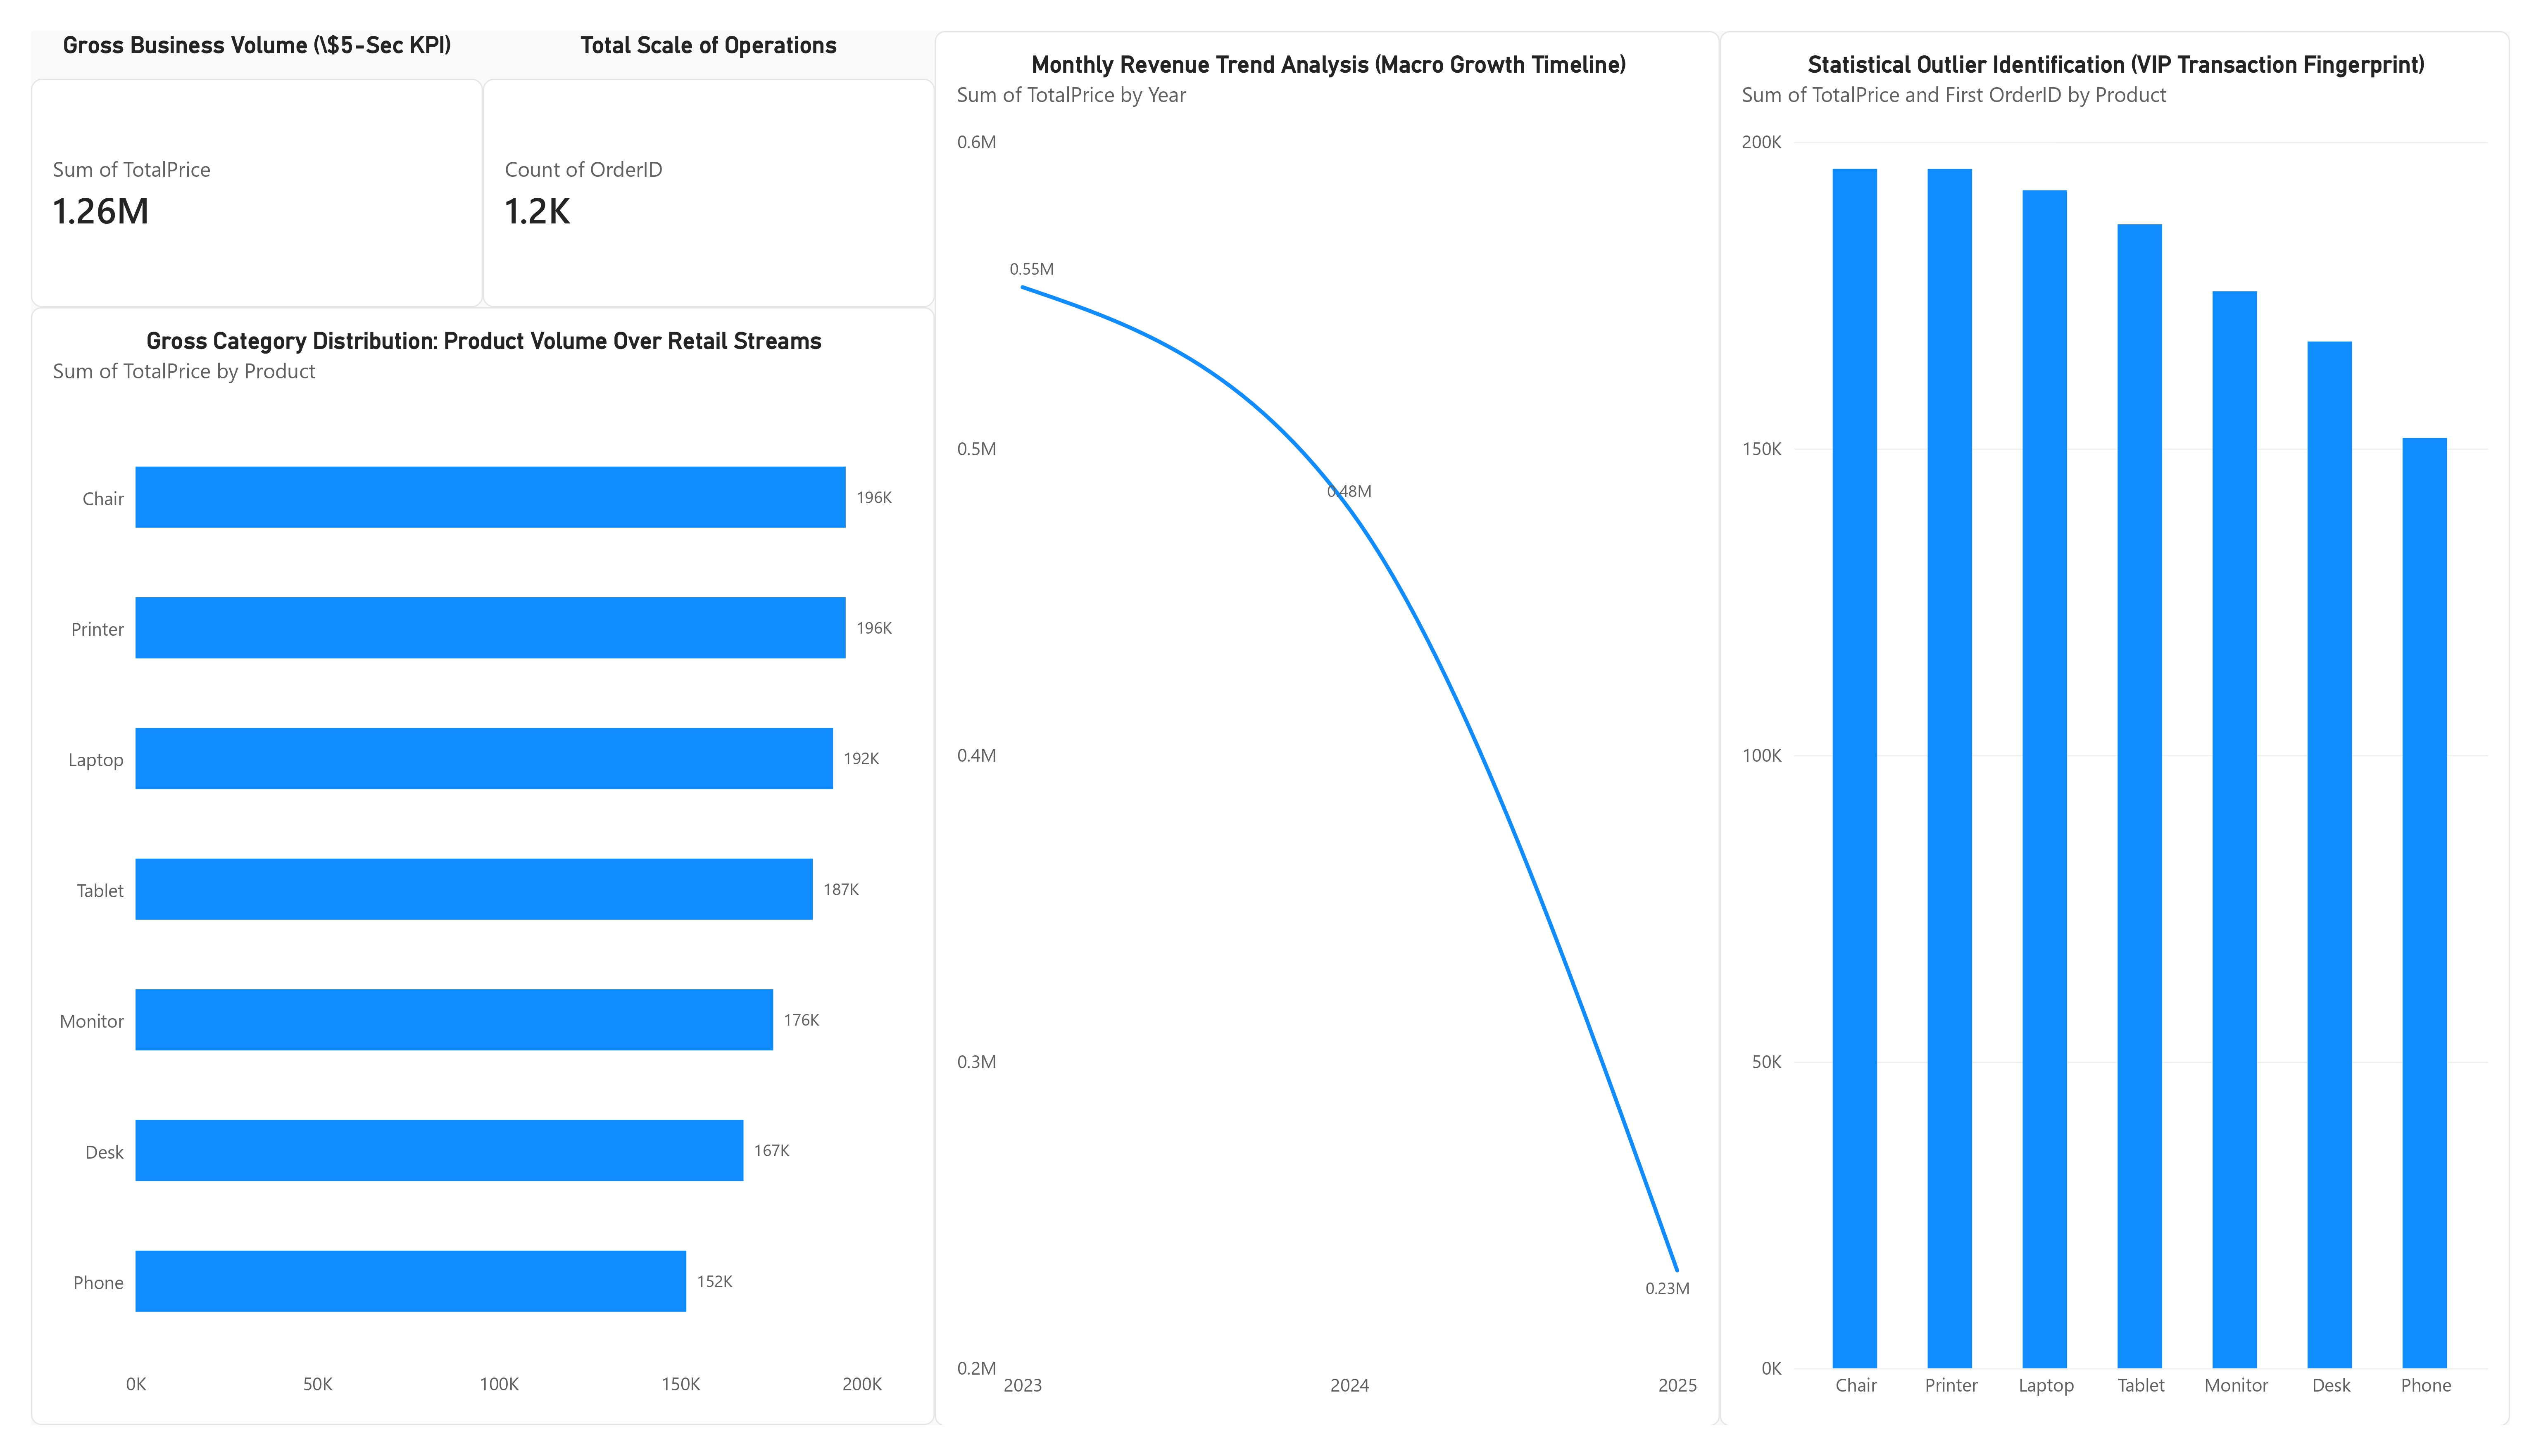

The page's visual inventory and layout, read from the dashboard file:
{"tool":"powerbi","page":{"name":"Page 1","canvas":[1920,1080],"ordinal":0},"visuals":[{"type":"clusteredBarChart","title":"Gross Category Distribution: Product Volume Over Retail Streams","fields":{"Category":["ECommerce_Data.Product"],"Y":["Sum(ECommerce_Data.TotalPrice)"]},"box":[0,213.8,699.8,866.2],"z":0},{"type":"lineChart","title":"Monthly Revenue Trend Analysis (Macro Growth Timeline)","fields":{"Category":["ECommerce_Data.Date.Variation.Date Hierarchy.Year","ECommerce_Data.Date.Variation.Date Hierarchy.Quarter","ECommerce_Data.Date.Variation.Date Hierarchy.Month","ECommerce_Data.Date.Variation.Date Hierarchy.Day"],"Y":["Sum(ECommerce_Data.TotalPrice)"]},"box":[700.5,0,607.2,1080.9],"z":1000},{"type":"clusteredColumnChart","title":"Statistical Outlier Identification (VIP Transaction Fingerprint)","fields":{"Category":["ECommerce_Data.Product"],"Y":["Sum(ECommerce_Data.TotalPrice)"]},"box":[1307.7,0,612.3,1080.9],"z":2000},{"type":"cardVisual","title":"Gross Business Volume (\\$5-Sec KPI)","fields":{"Data":["Sum(ECommerce_Data.TotalPrice)"]},"box":[0,0,349.9,213.8],"z":3000},{"type":"cardVisual","title":"Total Scale of Operations","fields":{"Data":["CountNonNull(ECommerce_Data.OrderID)"]},"box":[350.2,0,350.2,214.2],"z":4000}]}

Visuals, with their boxes on the page's 1920x1080 design canvas (x1, y1, x2, y2). These are canvas units, not pixel positions in the 2541x1456 screenshot, which may show the page scaled, cropped or inside an application window:
"Gross Category Distribution: Product Volume Over Retail Streams" clusteredBarChart: <box>0,214,700,1080</box>
"Monthly Revenue Trend Analysis (Macro Growth Timeline)" lineChart: <box>700,0,1308,1081</box>
"Statistical Outlier Identification (VIP Transaction Fingerprint)" clusteredColumnChart: <box>1308,0,1920,1081</box>
"Gross Business Volume (\$5-Sec KPI)" cardVisual: <box>0,0,350,214</box>
"Total Scale of Operations" cardVisual: <box>350,0,700,214</box>
